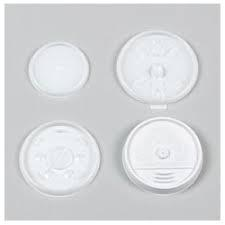Liquid: (7, 8, 225, 225)
